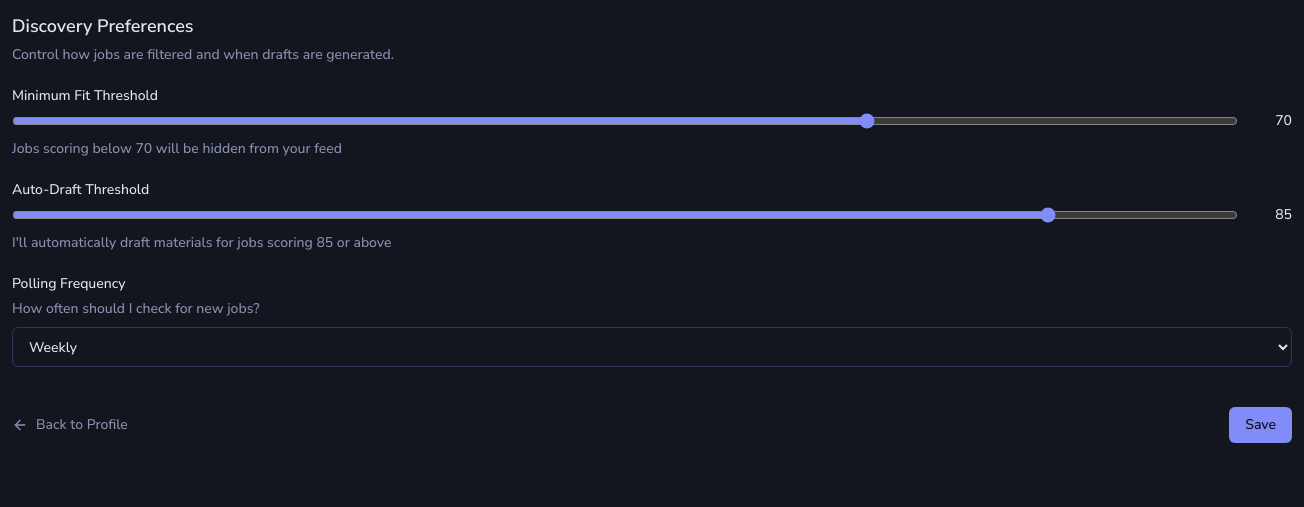
DiscoveryPreferencesEditor › submission › shows success message after save
The image size is (1304, 507).
Click the button "Save": (1261, 425) [1229,407,1292,443]
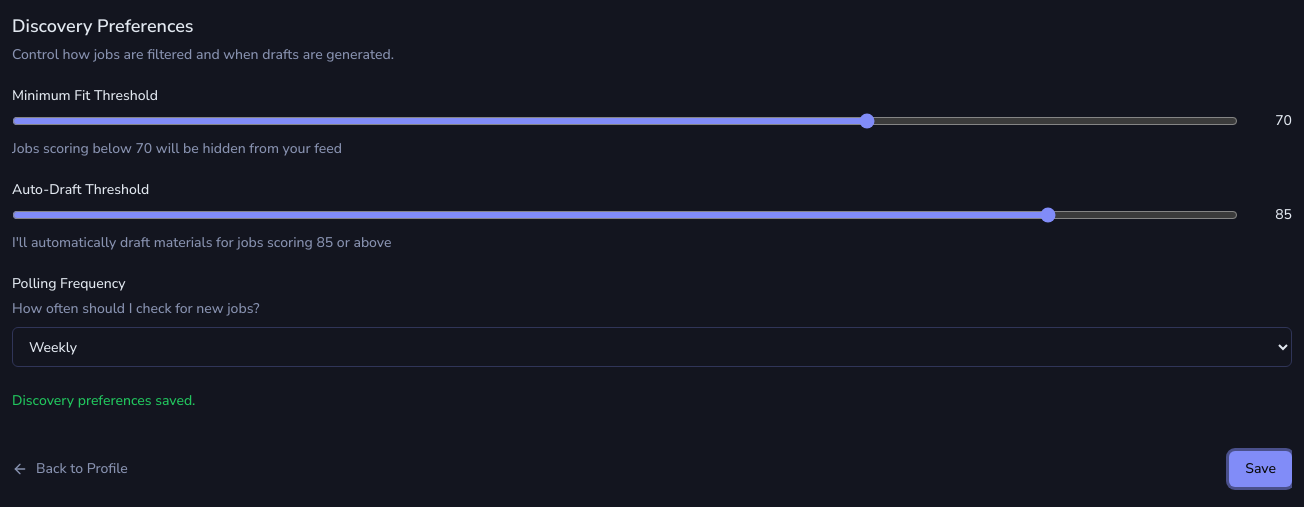
Expected: the text "Discovery preferences saved." is shown, [12,391,195,410]
